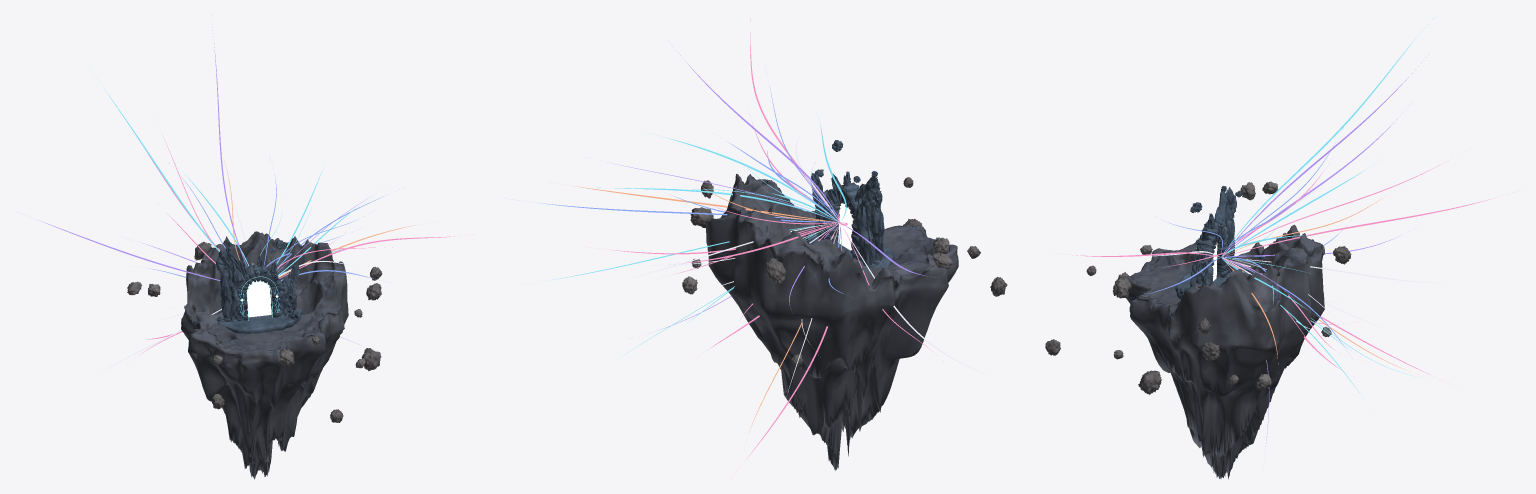
Rendered from portal.glb.
The picture shows the model from 3 angles, left to right: view 1: azimuth 30°, elevation 25°; view 2: azimuth 150°, elevation 25°; view 3: azimuth 270°, elevation 25°; orthographic projection. The views are drawn at different scales.
Parts seen in each view (by area): view 1: Asteroid.001, GateBlocks.001, BaseStone.001, TowerL.001, PortalLight.001; view 2: Asteroid.001, TowerL.001, GateBlocks.001, PortalLight.001; view 3: Asteroid.001, GateBlocks.001.
Part boxes in pixels (x1,y1,x2,y2): Asteroid.001: [181, 231, 348, 479]; GateBlocks.001: [237, 264, 284, 321]; BaseStone.001: [217, 308, 302, 333]; TowerL.001: [220, 262, 242, 321]; PortalLight.001: [246, 280, 271, 317]; Asteroid.001: [706, 174, 958, 470]; TowerL.001: [856, 187, 884, 266]; GateBlocks.001: [823, 182, 861, 260]; PortalLight.001: [838, 203, 853, 250]; Asteroid.001: [1126, 224, 1324, 479]; GateBlocks.001: [1194, 221, 1229, 281].
Size of the model in its own units: 39.56 by 40.44 by 38.72.
